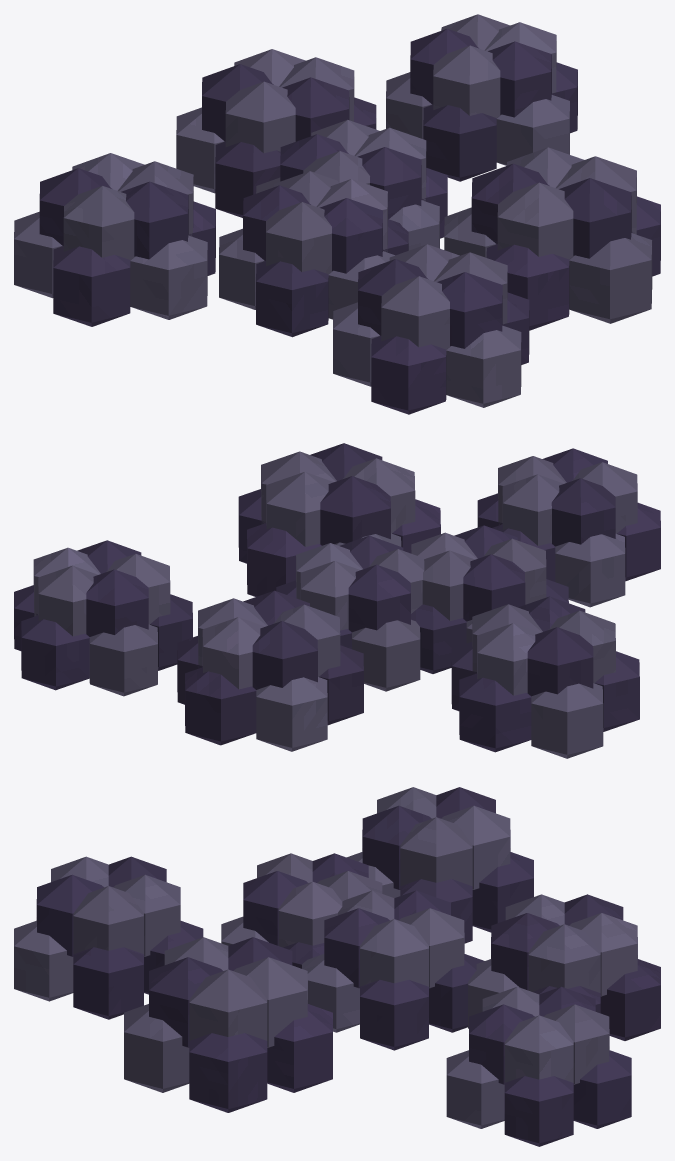
File: blackberries.glb
The picture shows the model from 3 angles, top to bottom: view 1: azimuth 30°, elevation 25°; view 2: azimuth 150°, elevation 25°; view 3: azimuth 270°, elevation 25°; orthographic projection. The views are drawn at different scales.
Visible parts, largest first — view 1: block_individual drupelet (×60); view 2: block_individual drupelet (×56); view 3: block_individual drupelet (×54).
Part boxes in pixels (<box>): block_individual drupelet (×60): <box>14,14,660,414</box>; block_individual drupelet (×56): <box>14,443,660,758</box>; block_individual drupelet (×54): <box>14,787,660,1146</box>.
Size of the model in its own units: 0.1084 by 0.0239 by 0.1058.
1 material, 1 textured.
